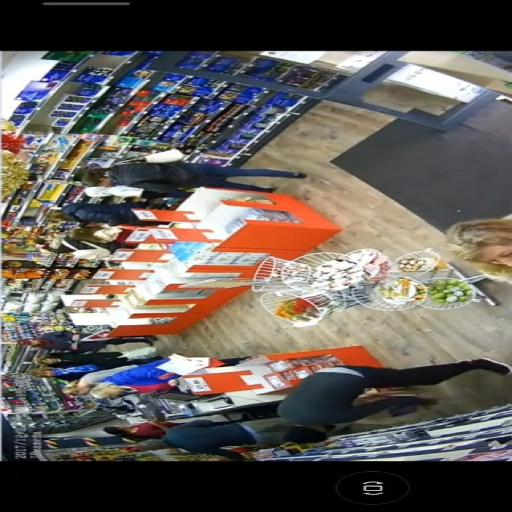workers: (86, 360, 198, 404), (58, 354, 174, 395), (26, 355, 132, 380)
